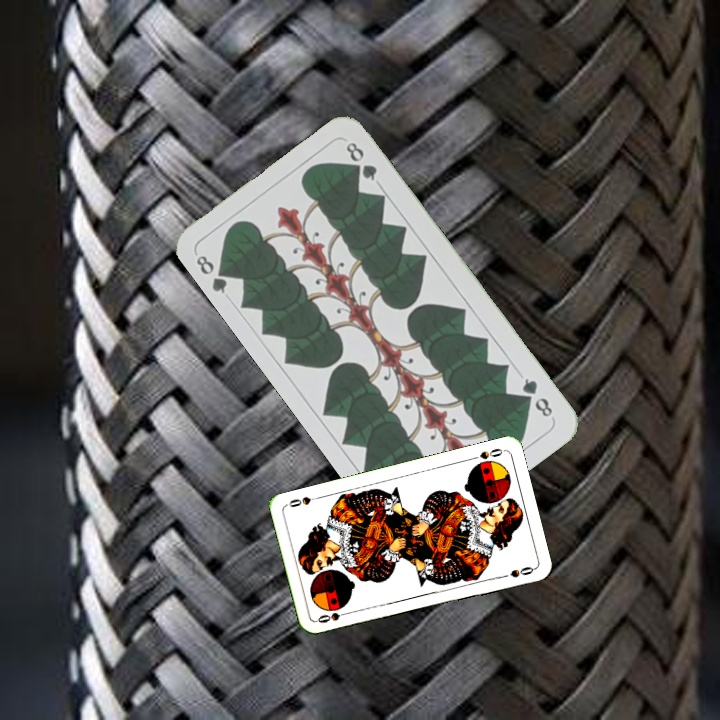G8: (192, 251, 234, 297), (517, 373, 556, 420)
SO: (313, 608, 353, 626), (466, 444, 506, 462)
